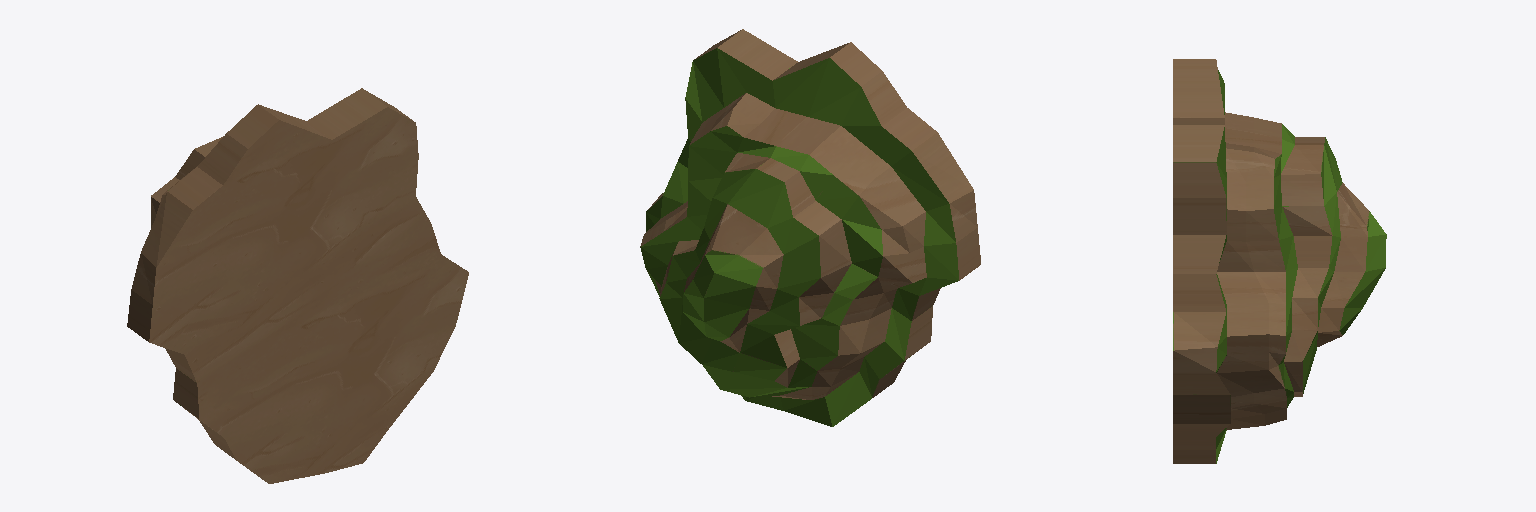
The picture shows the model from 3 angles: view 1: azimuth 30°, elevation 25°; view 2: azimuth 150°, elevation 25°; view 3: azimuth 270°, elevation 25°; orthographic projection.
Visible parts, largest first — view 1: mountain-04_Plane.186; view 2: mountain-04_Plane.186; view 3: mountain-04_Plane.186.
Boxes of the visible parts, x1=… form: mountain-04_Plane.186: x1=127, y1=88, x2=468, y2=483; mountain-04_Plane.186: x1=640, y1=29, x2=980, y2=426; mountain-04_Plane.186: x1=1173, y1=59, x2=1386, y2=463.
Bounding box in the file's own units: 30.49 × 33.18 × 17.57.
1 materials, 1 textured.